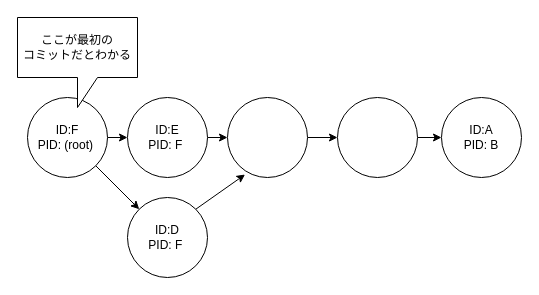
This 539x295 diagram has some shape labels left out. The shapes that lost their labels are listed below. From the top down, each one's box as (x1, y1, x2, y2) in pixels, then its label:
(226, 96, 308, 178): ID:C PID: D,E
(336, 96, 418, 178): ID:B PID: C
